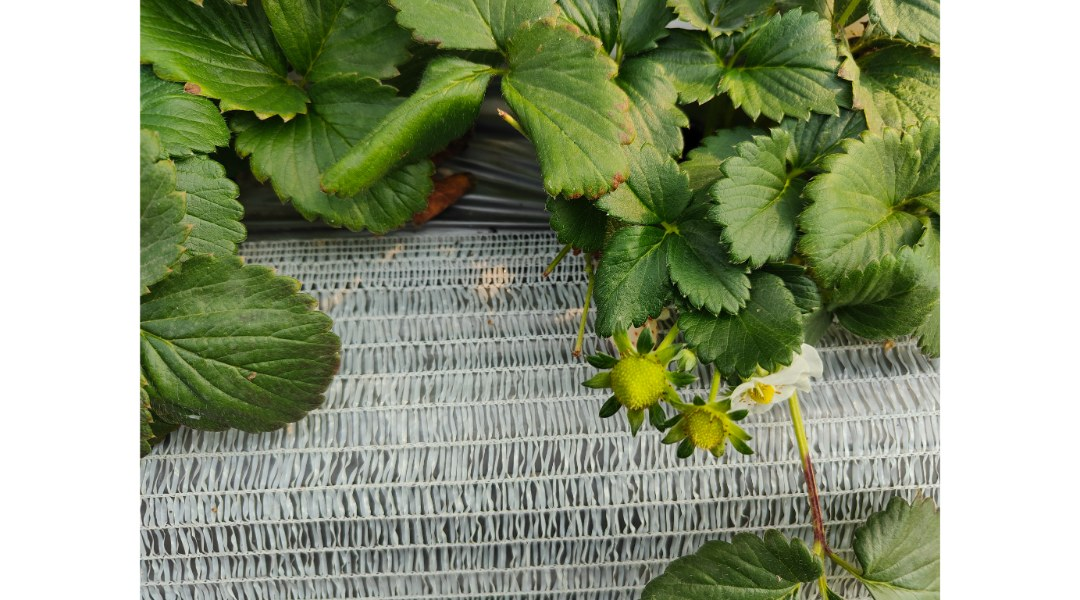berry: (588, 326, 690, 440), (671, 391, 771, 466)
flower: (732, 340, 836, 410)
